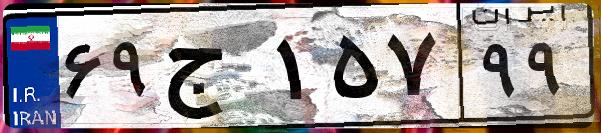1: (270, 28, 330, 110)
5: (330, 28, 385, 110)
6: (57, 26, 110, 100)
7: (385, 28, 445, 110)
9: (475, 38, 525, 113), (525, 38, 570, 115), (110, 28, 158, 98)
ج: (158, 20, 270, 120)
